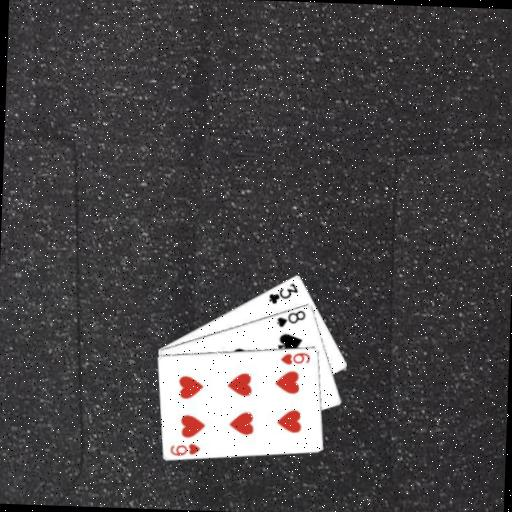3C: (266, 278, 300, 306)
6H: (277, 348, 312, 366), (167, 439, 202, 457)
8S: (273, 306, 307, 329)
